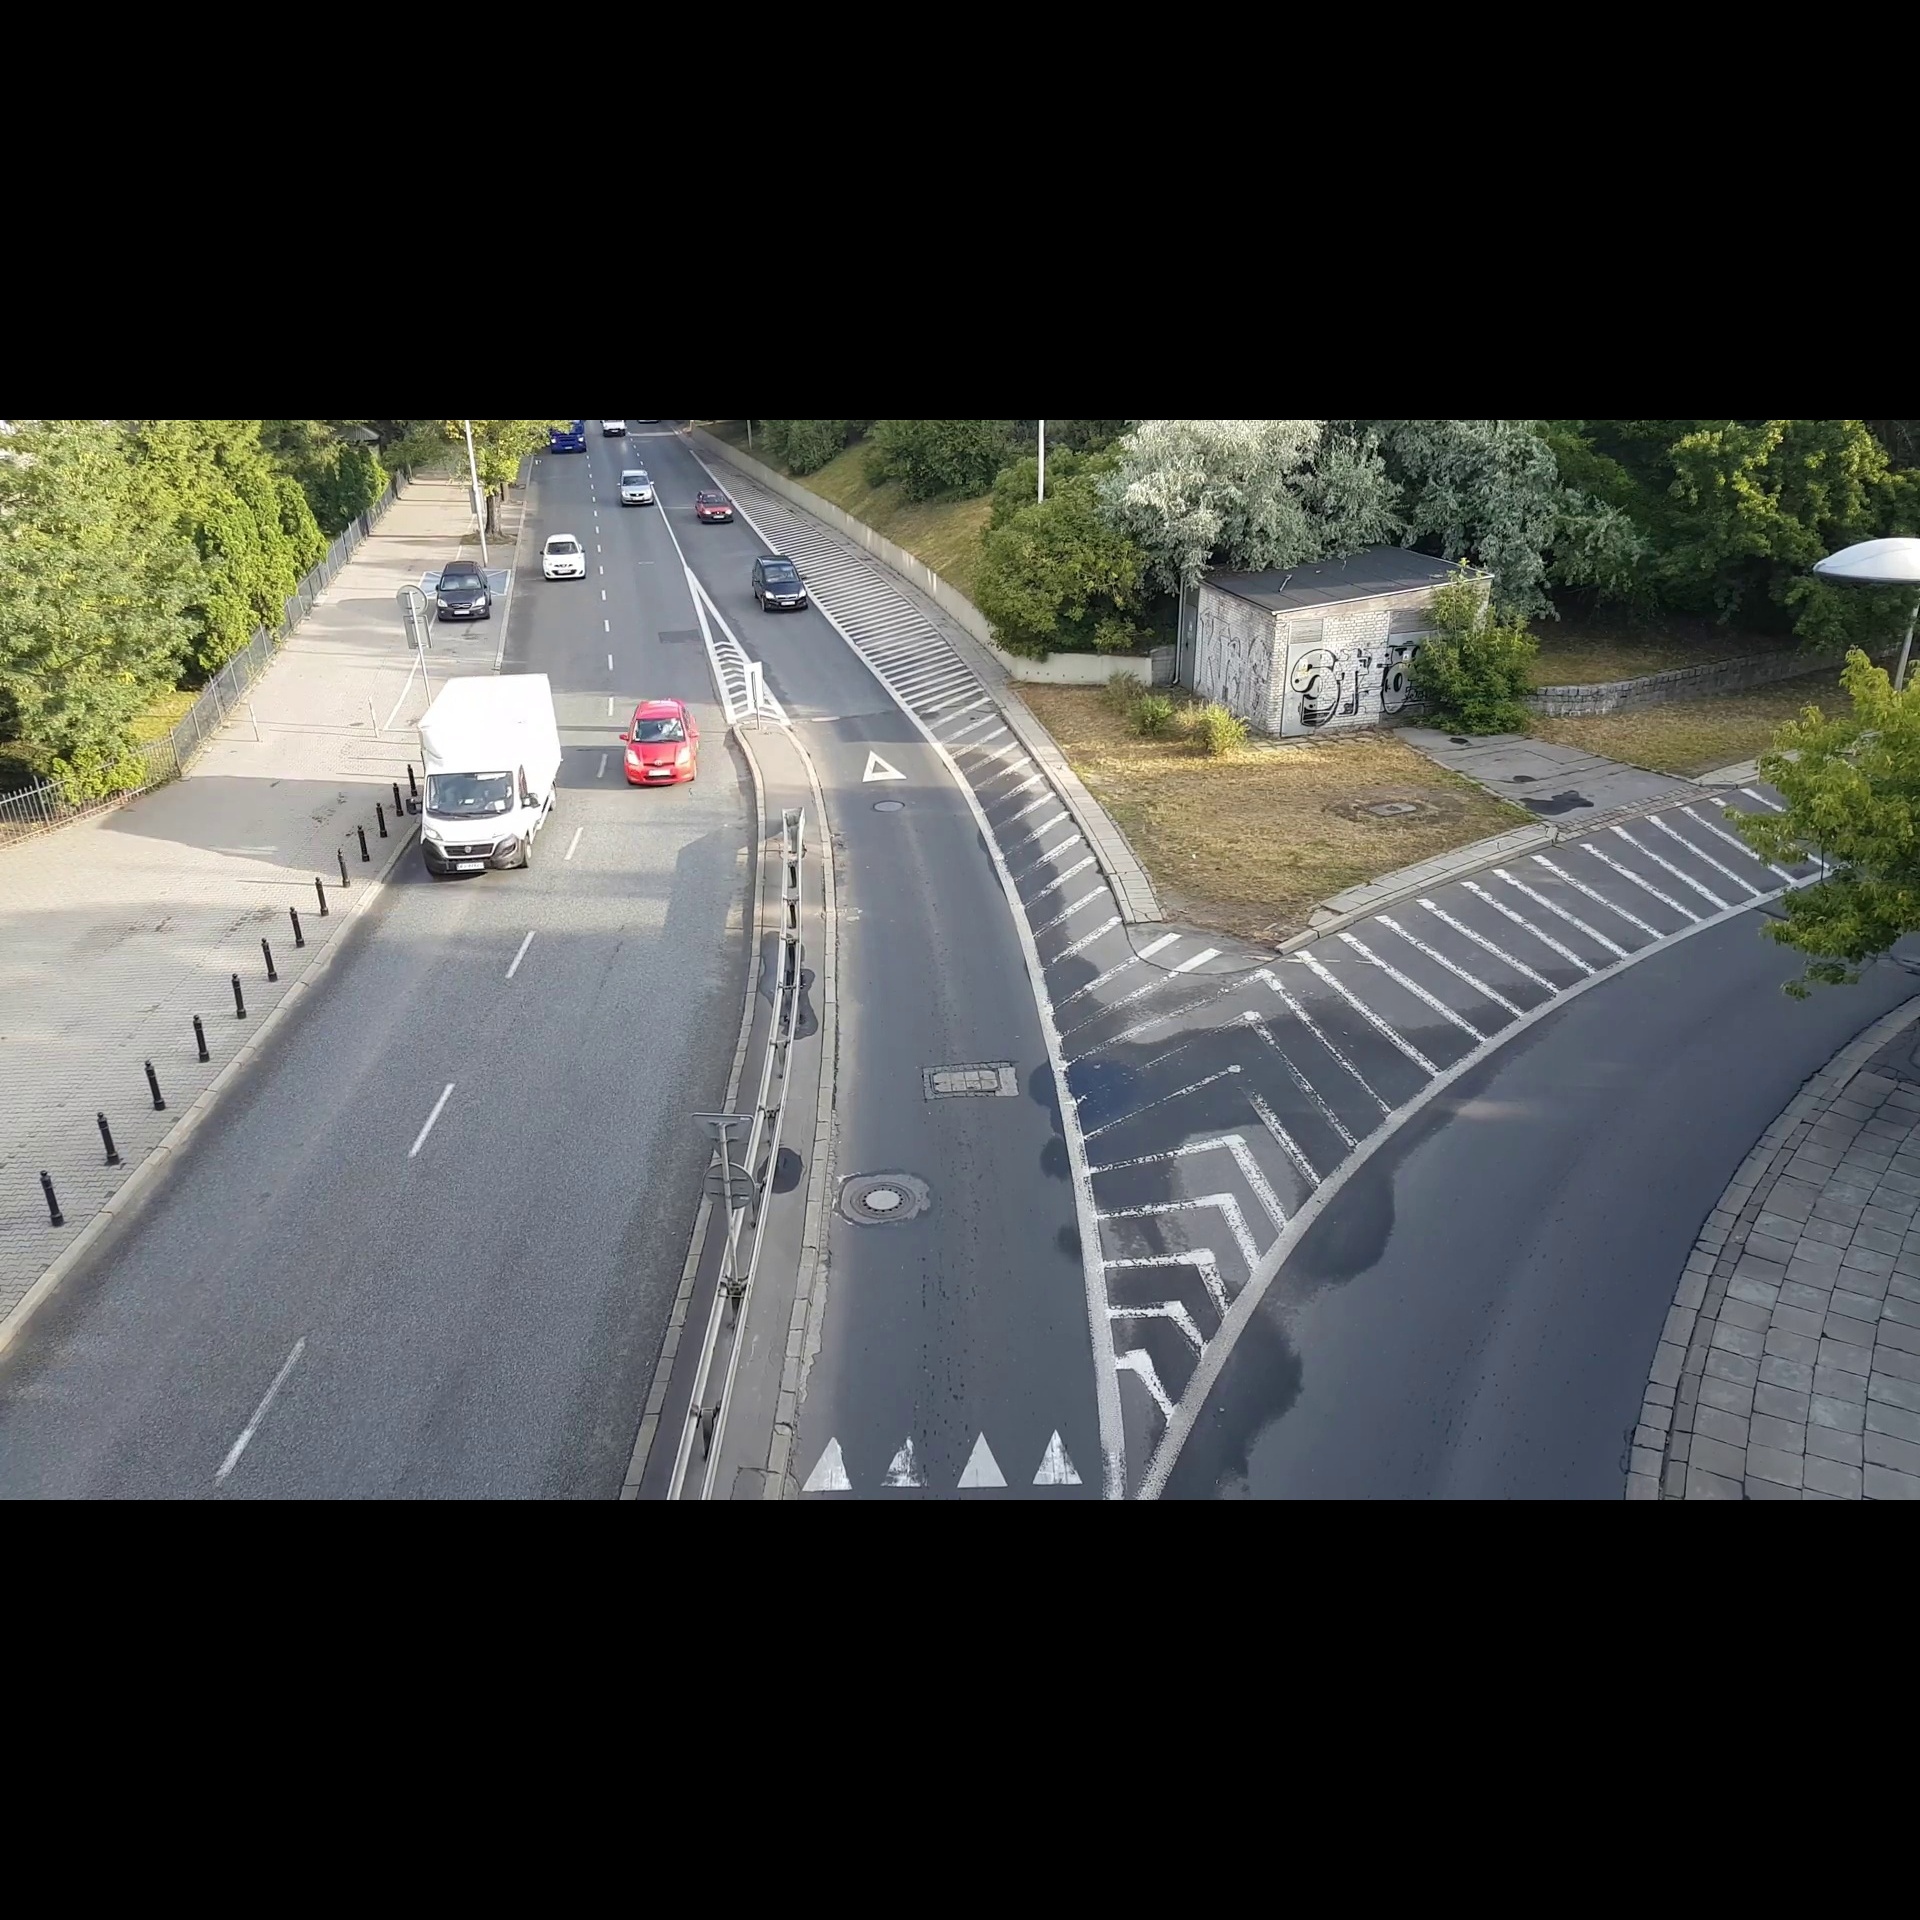vehicle: (410, 663, 573, 886), (619, 695, 703, 793), (431, 556, 496, 628), (747, 549, 814, 615), (538, 526, 594, 584), (612, 464, 661, 506), (693, 487, 738, 529), (547, 420, 589, 455), (598, 420, 628, 440)
